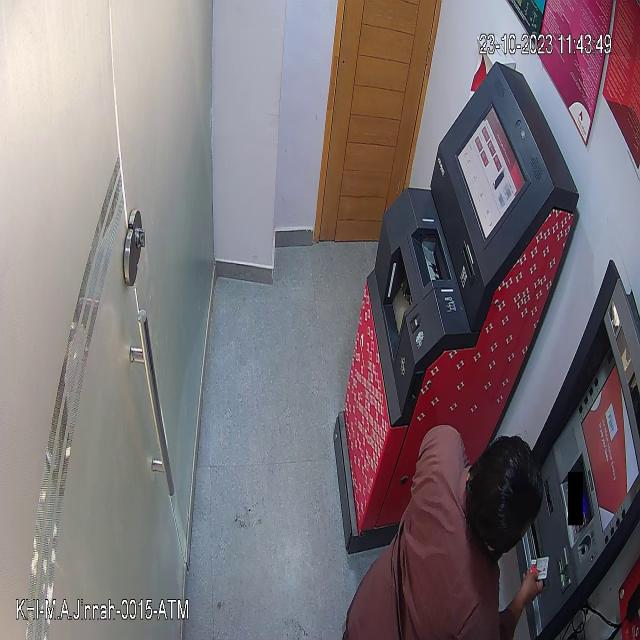atm-card: (525, 550, 553, 586)
